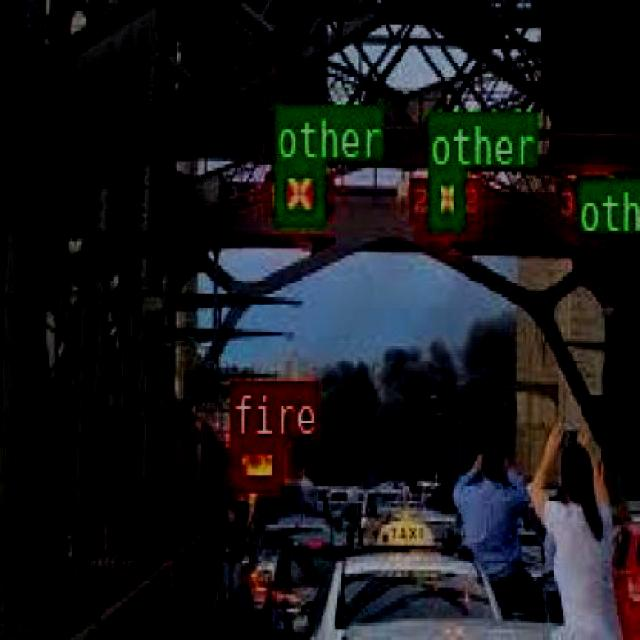fire: (228, 434, 280, 490)
